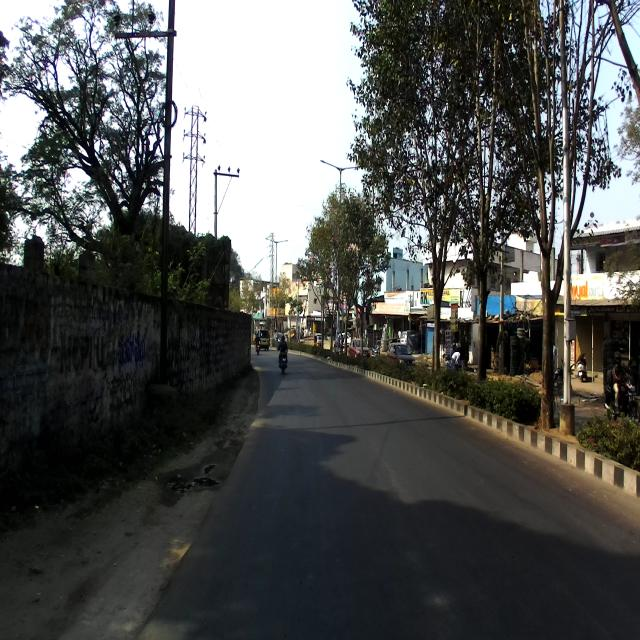electric pole ahead at: (153, 0, 184, 447)
